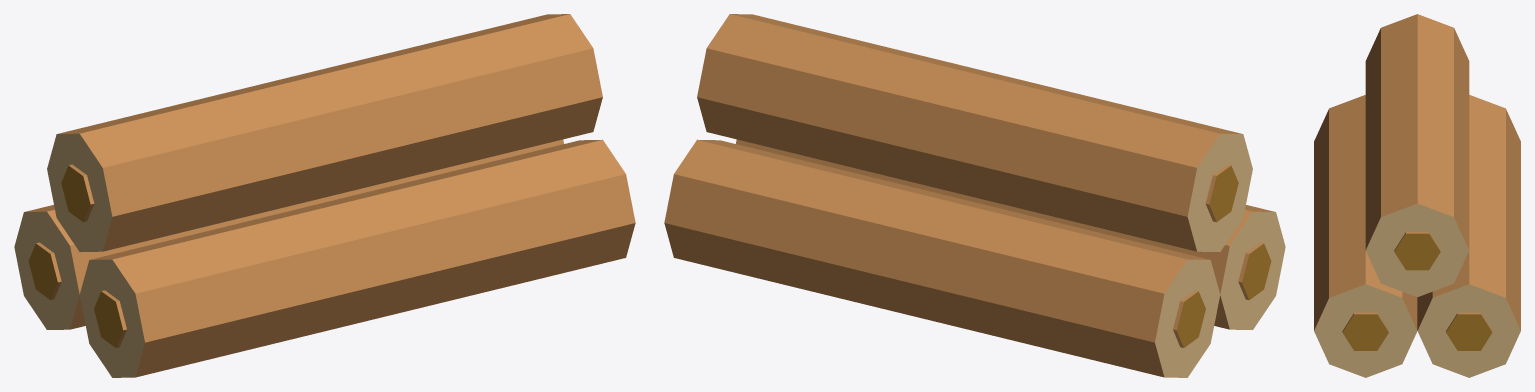
File: prop_logs_s.fbx
3 views of the same model, side by side, from view 1: azimuth 30°, elevation 25°; view 2: azimuth 150°, elevation 25°; view 3: azimuth 270°, elevation 25° (orthographic). The views are drawn at different scales.
Visible parts, largest first — view 1: prop_logs_s; view 2: prop_logs_s; view 3: prop_logs_s.
Boxes of the visible parts, x1,y1,x2,y2 form: prop_logs_s: (14,14,635,377); prop_logs_s: (664,14,1285,377); prop_logs_s: (1314,14,1520,377).
Size of the model in its own units: 0.3168 by 0.1339 by 0.144.
